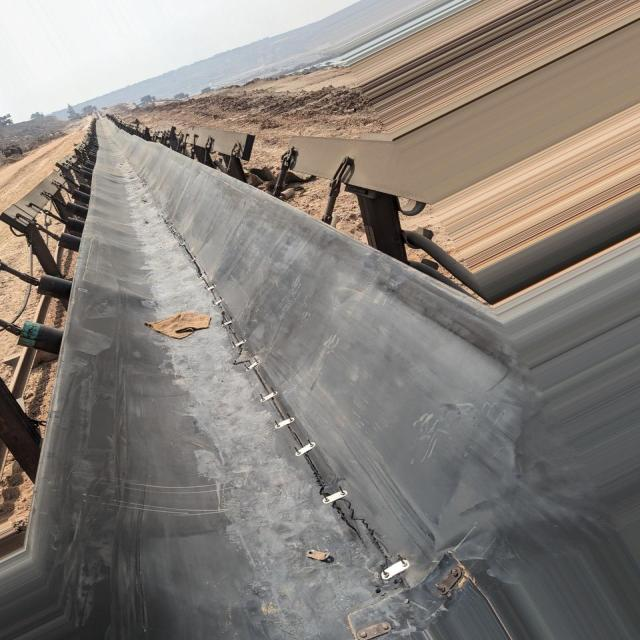Other Objects: (146, 313, 212, 339)
Roller: (18, 183, 91, 367)
patch work: (189, 278, 436, 595), (351, 550, 471, 640)
